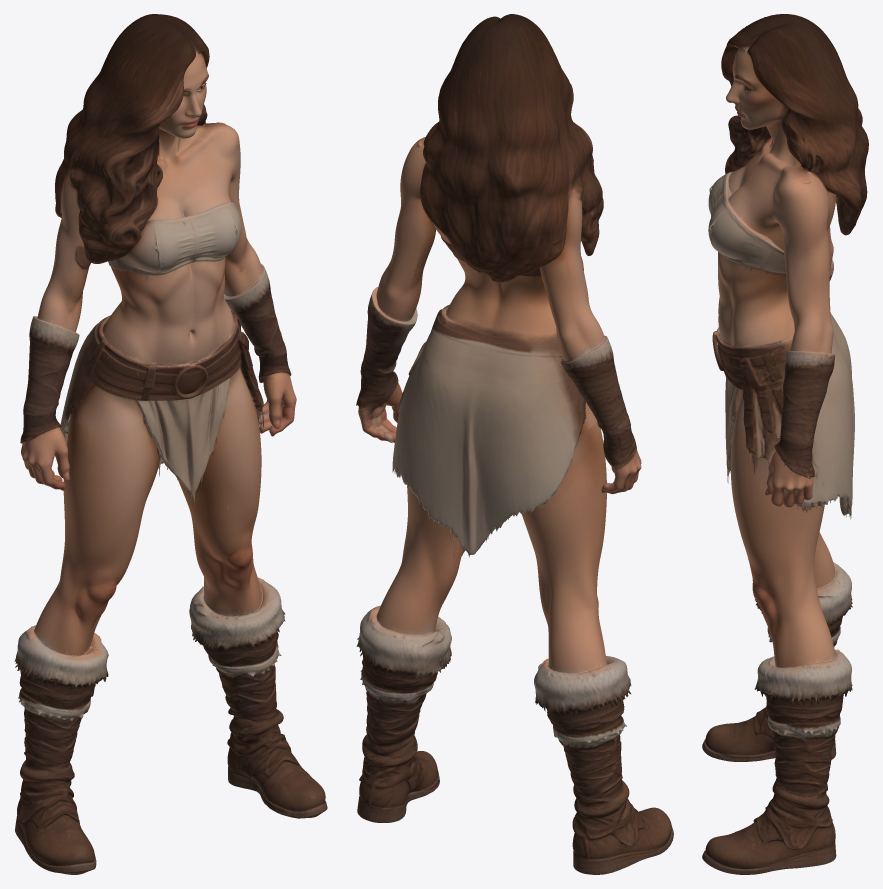
File: warrior_base_female_01.glb
3 renders of one model, left to right at view 1: azimuth 30°, elevation 25°; view 2: azimuth 150°, elevation 25°; view 3: azimuth 270°, elevation 25°, orthographic. The views are drawn at different scales.
Visible parts, largest first — view 1: material; view 2: material; view 3: material.
Part boxes in pixels (x1,y1,x2,y2): material: [14, 14, 327, 874]; material: [356, 14, 673, 874]; material: [702, 14, 868, 874].
Size of the model in its own units: 0.4139 by 1.13 by 0.2152.
1 material, 1 textured.
